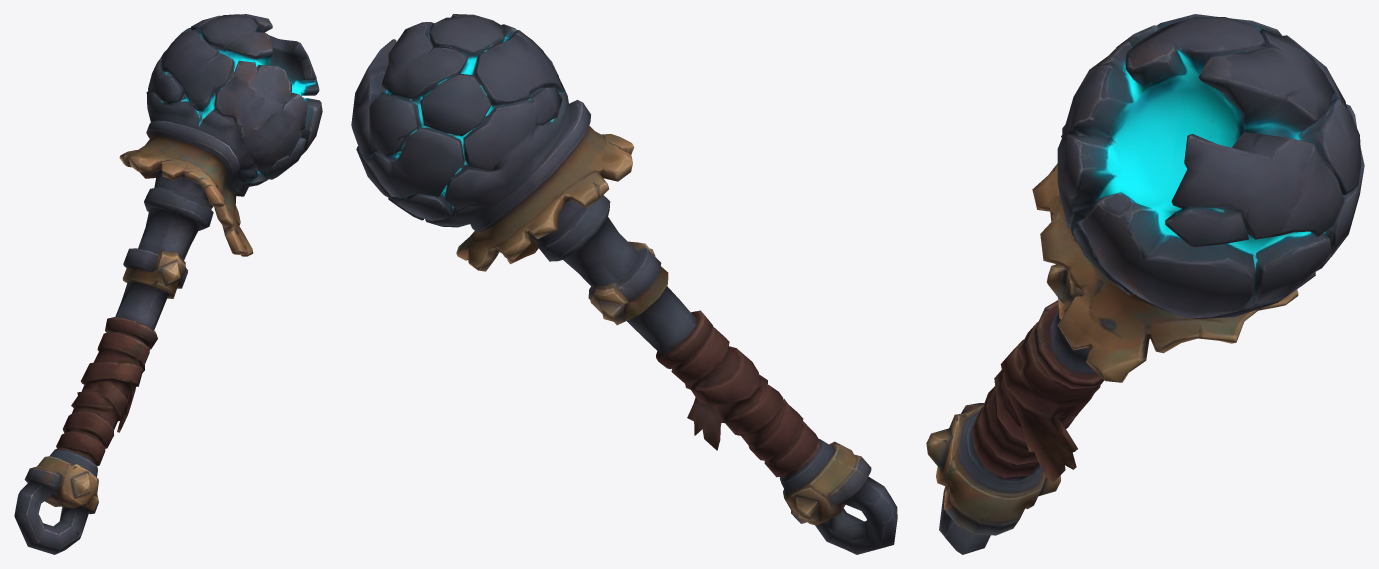
The model's file is tll_ch1_clapper.glb.
3 views of the same model, side by side, from view 1: azimuth 30°, elevation 25°; view 2: azimuth 150°, elevation 25°; view 3: azimuth 270°, elevation 25° (orthographic). The views are drawn at different scales.
Visible parts, largest first — view 1: tripo_node_d227f8ef-e6fa-45e3-b169-02e46780c90b; view 2: tripo_node_d227f8ef-e6fa-45e3-b169-02e46780c90b; view 3: tripo_node_d227f8ef-e6fa-45e3-b169-02e46780c90b.
Part boxes in pixels (x1,y1,x2,y2): tripo_node_d227f8ef-e6fa-45e3-b169-02e46780c90b: (14,14,322,554); tripo_node_d227f8ef-e6fa-45e3-b169-02e46780c90b: (351,14,897,554); tripo_node_d227f8ef-e6fa-45e3-b169-02e46780c90b: (926,14,1364,554).
Size of the model in its own units: 0.8892 by 0.9771 by 0.5297.
1 material, 1 textured.
